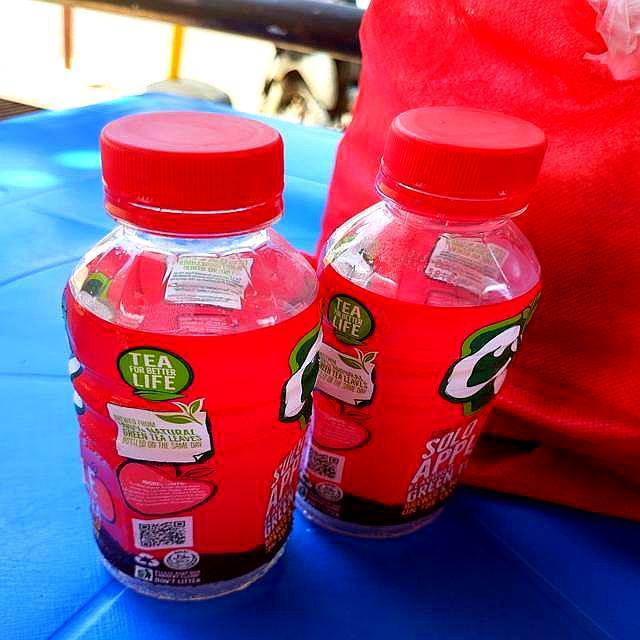Non-biodegradable: (63, 109, 321, 607), (317, 113, 541, 533)
